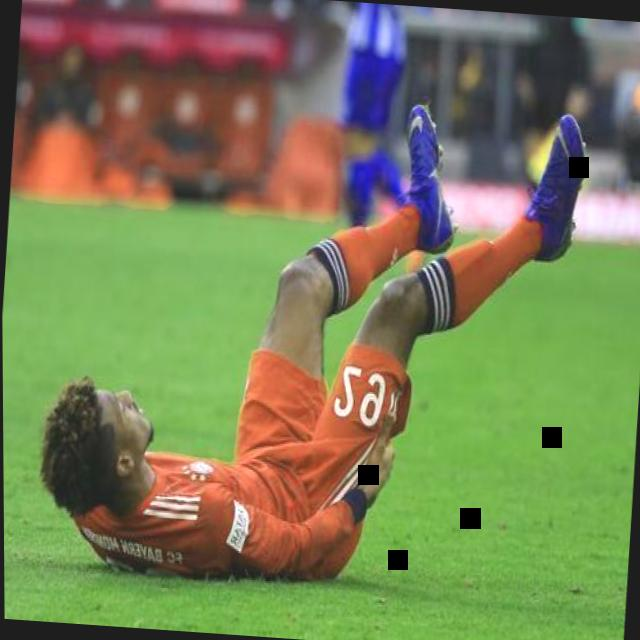Fall-Detected: (24, 55, 615, 594)
